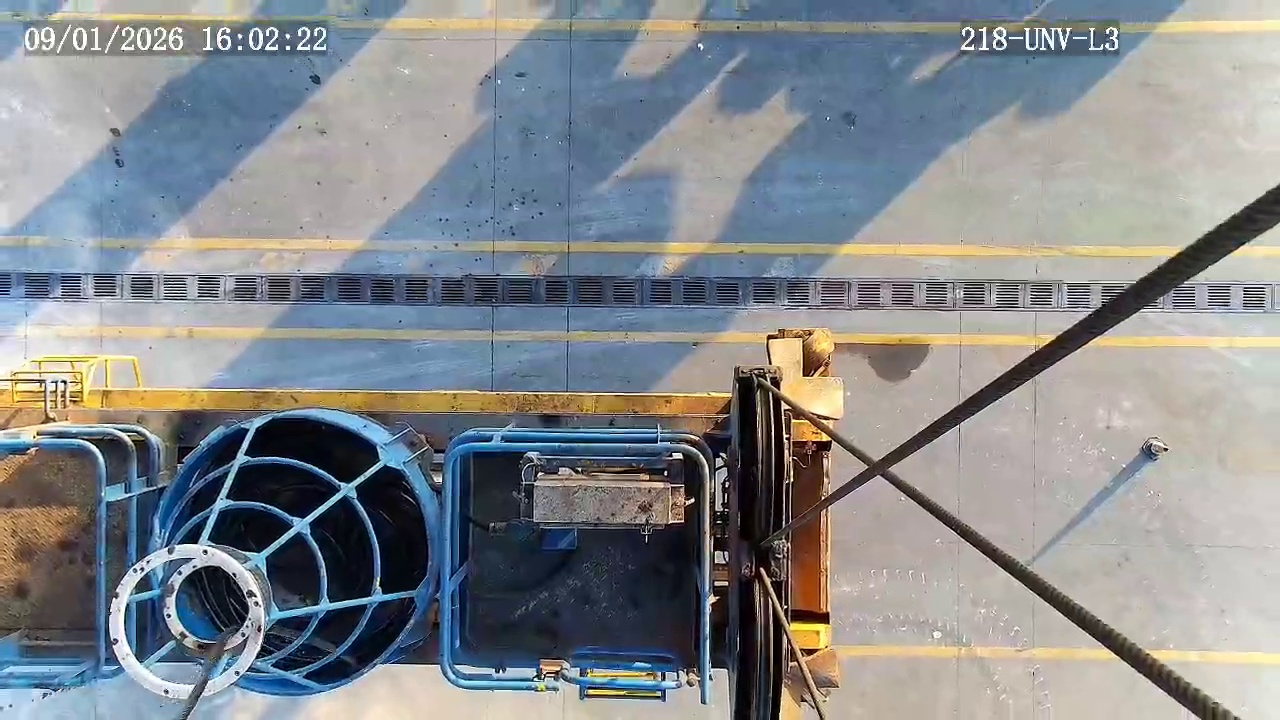right: (109, 544, 263, 702)
